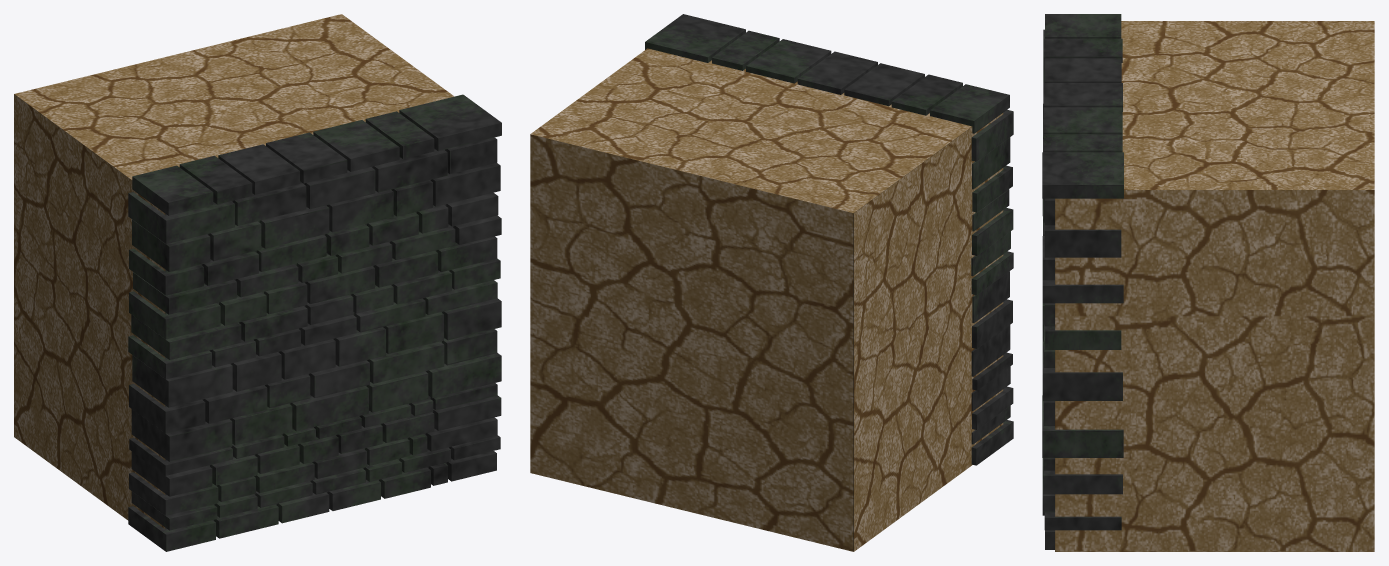
File: Stone Road.fbx
The picture shows the model from 3 angles, left to right: view 1: azimuth 30°, elevation 25°; view 2: azimuth 150°, elevation 25°; view 3: azimuth 270°, elevation 25°; orthographic projection. The views are drawn at different scales.
Visible parts, largest first — view 1: Brick Wall; view 2: Brick Wall; view 3: Brick Wall.
Part boxes in pixels (left/top/right/bottom): Brick Wall: left=14, top=14, right=501, bottom=551; Brick Wall: left=530, top=14, right=1013, bottom=551; Brick Wall: left=1042, top=14, right=1374, bottom=551.
Bounding box in the file's own units: 102 × 102 × 83.22.
